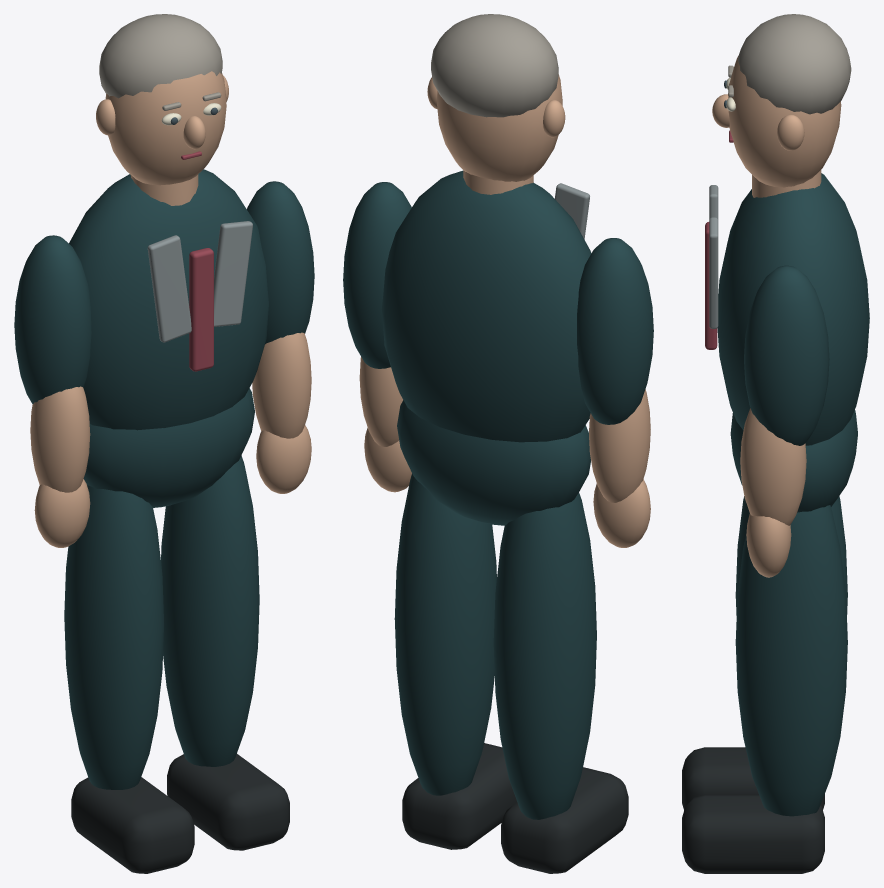
Rendered from Martin.glb.
The picture shows the model from 3 angles, left to right: view 1: azimuth 30°, elevation 25°; view 2: azimuth 150°, elevation 25°; view 3: azimuth 270°, elevation 25°; orthographic projection. The views are drawn at different scales.
Visible parts, largest first — view 1: Shirt torso.003, Trouser leg.006, Trouser leg.007, Hips.003, Sleeve.006, Face.003, Boot.006, Boot.007, Hair cap.003, Sleeve.007, Forearm.006, Forearm.007 (+8 smaller); view 2: Shirt torso.003, Trouser leg.006, Trouser leg.007, Hips.003, Sleeve.006, Hair cap.003, Boot.006, Sleeve.007, Face.003, Boot.007, Forearm.006, Forearm.007 (+5 smaller); view 3: Trouser leg.007, Shirt torso.003, Sleeve.007, Boot.007, Hair cap.003, Face.003, Forearm.007, Hips.003, Boot.006, Hand.007, Trouser leg.006, Lapel.001 (+4 smaller).
Boxes of the visible parts, left/top/right/bottom form: Shirt torso.003: left=69, top=169, right=268, bottom=430; Trouser leg.006: left=64, top=485, right=163, bottom=789; Trouser leg.007: left=161, top=455, right=259, bottom=766; Hips.003: left=83, top=388, right=254, bottom=507; Sleeve.006: left=14, top=235, right=91, bottom=403; Face.003: left=105, top=71, right=226, bottom=185; Boot.006: left=71, top=777, right=194, bottom=873; Boot.007: left=167, top=754, right=289, bottom=850; Hair cap.003: left=99, top=14, right=222, bottom=98; Sleeve.007: left=247, top=181, right=314, bottom=344; Forearm.006: left=30, top=386, right=90, bottom=492; Forearm.007: left=252, top=332, right=311, bottom=438; Shirt torso.003: left=381, top=170, right=591, bottom=442; Trouser leg.006: left=493, top=493, right=596, bottom=819; Trouser leg.007: left=394, top=473, right=496, bottom=795; Hips.003: left=397, top=400, right=590, bottom=525; Sleeve.006: left=577, top=238, right=653, bottom=424; Hair cap.003: left=431, top=14, right=558, bottom=117; Boot.006: left=501, top=767, right=628, bottom=873; Sleeve.007: left=343, top=182, right=411, bottom=368; Face.003: left=437, top=74, right=562, bottom=181; Boot.007: left=402, top=743, right=516, bottom=849; Forearm.006: left=589, top=389, right=650, bottom=502; Forearm.007: left=359, top=357, right=402, bottom=446; Trouser leg.007: left=735, top=505, right=847, bottom=816; Shirt torso.003: left=717, top=173, right=869, bottom=445; Sleeve.007: left=744, top=265, right=829, bottom=445; Boot.007: left=682, top=794, right=824, bottom=873; Hair cap.003: left=737, top=14, right=851, bottom=114; Face.003: left=728, top=56, right=841, bottom=187; Forearm.007: left=740, top=408, right=806, bottom=525; Hips.003: left=730, top=410, right=857, bottom=512; Boot.006: left=682, top=747, right=824, bottom=810; Hand.007: left=746, top=513, right=791, bottom=577; Trouser leg.006: left=735, top=496, right=847, bottom=615; Lapel.001: left=709, top=217, right=718, bottom=328.
Size of the model in its own units: 0.664 by 1.77 by 0.368.
